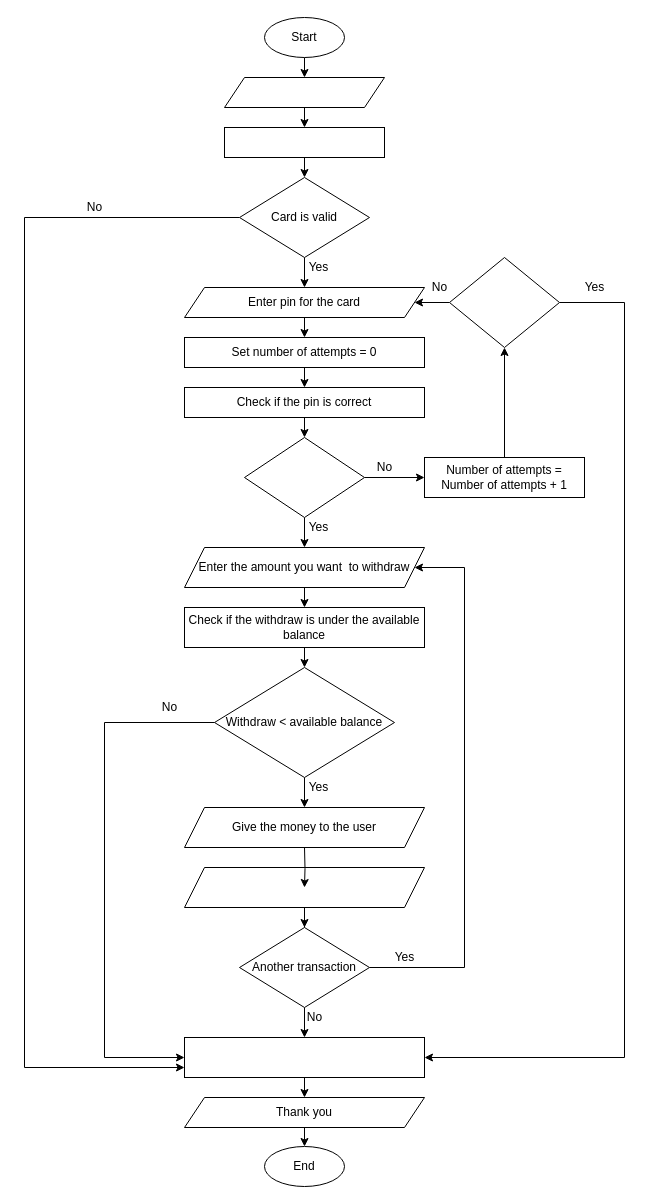
The diagram is 650 pixels wide and 1204 high, and some of its shapes have lost their labels. The shapes that lost their labels are listed below. From the top down, each one's box as (x1, y1, x2, y2) in pixels, then its label:
(224, 76, 384, 108): Enter the card
(224, 126, 384, 158): Check if the card is valid
(448, 256, 560, 348): Number of attempts > 3
(244, 436, 364, 518): Pin is correct
(184, 866, 424, 908): Do you want another transaction?
(184, 1036, 424, 1078): Push out the card
